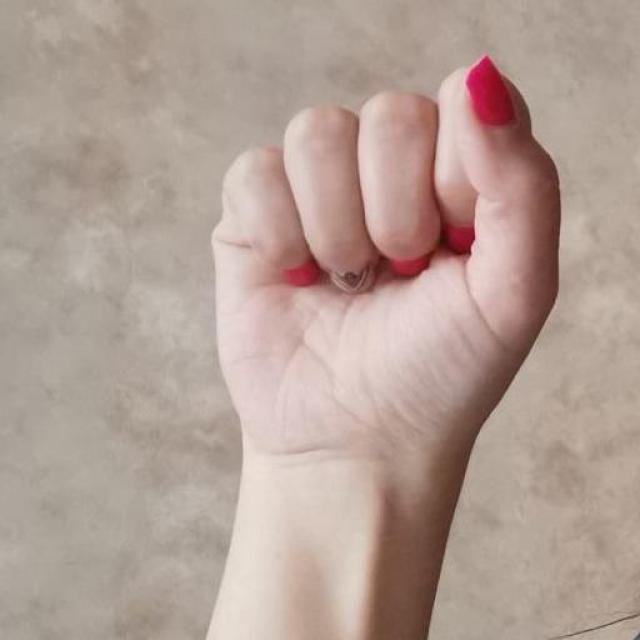hand: (208, 51, 562, 470)
